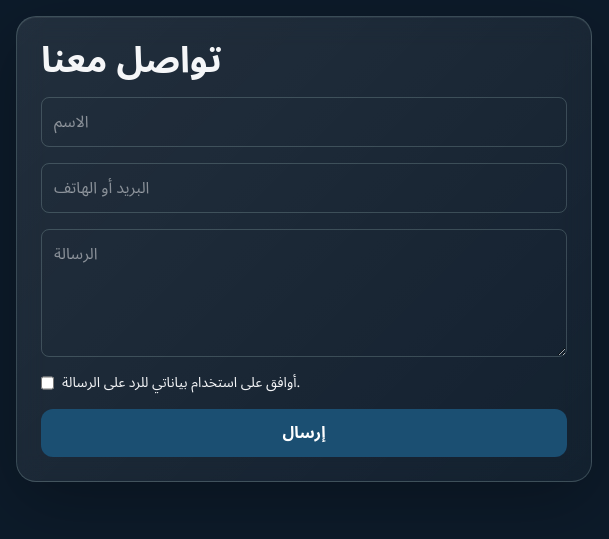
Test: T7-A6.3 ar UI contracts › contact fallback preserves payload, raw error precedence and localized placeholders
Type "RAW name اسم" into the field with placeholder "الاسم" at (304, 122), box [41,97,567,147]
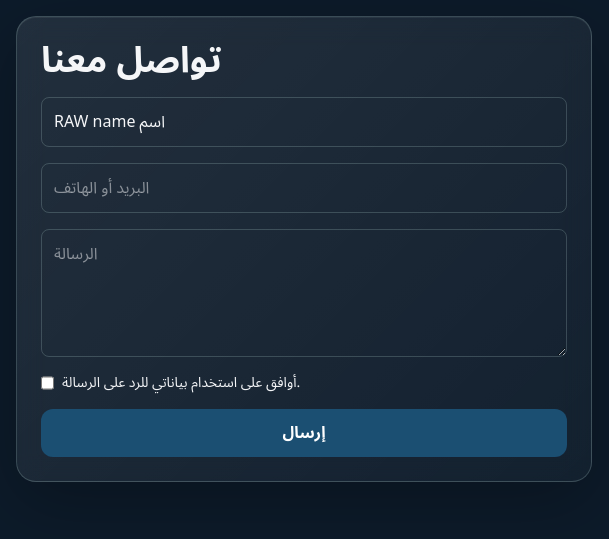
Type "raw@example.test" into the field with placeholder "البريد أو الهاتف" at (304, 188), box [41,163,567,213]
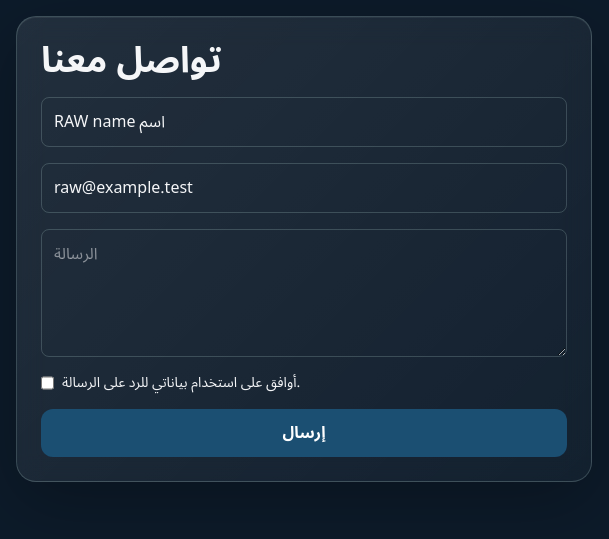
Type "RAW message رسالة" into the text box with placeholder "الرسالة" at (304, 293), box [41,229,567,357]
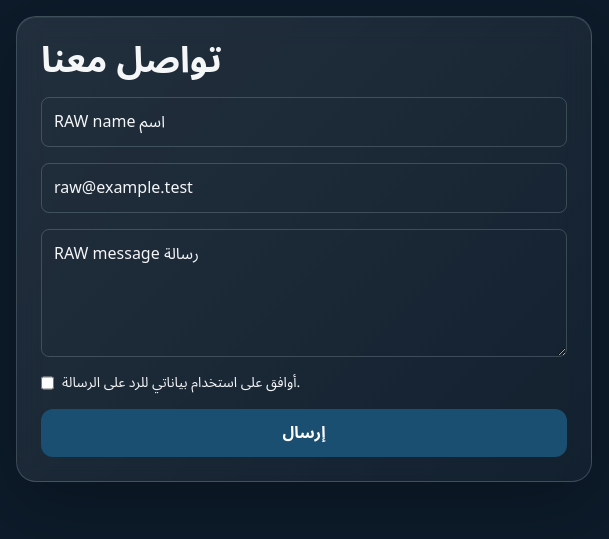
Click the checkbox at (48, 383), box [41,373,54,393]
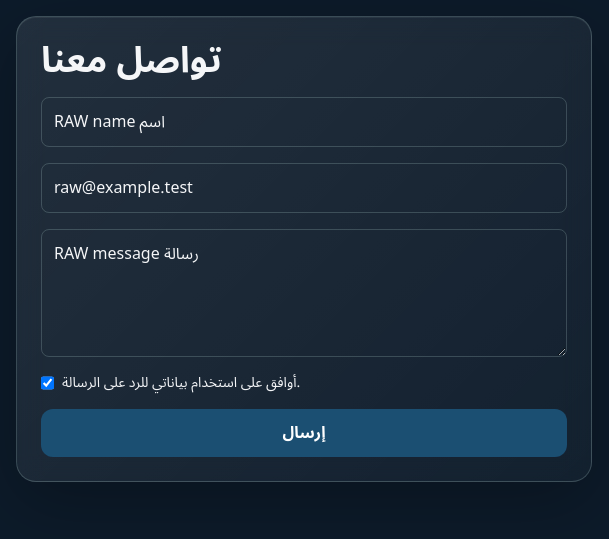
Click the button "إرسال" at (304, 433), box [41,409,567,457]
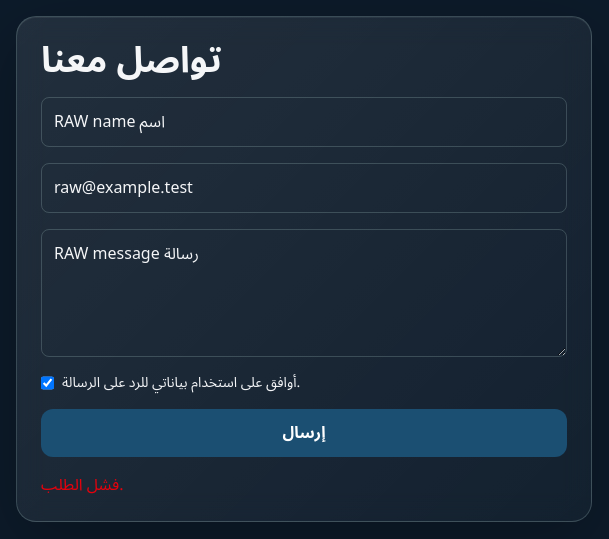
Check: the message reads "فشل الطلب.", box [41,468,124,502]
